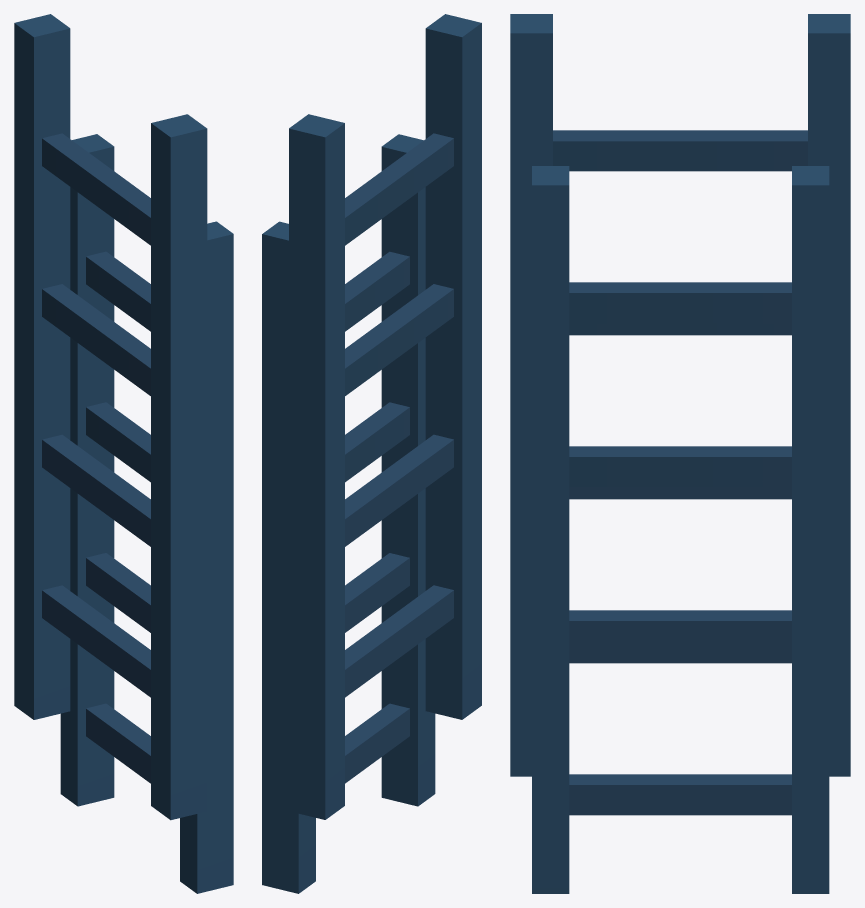
Rendered from FireEscape_D_4.fbx.
The picture shows the model from 3 angles, left to right: view 1: azimuth 30°, elevation 25°; view 2: azimuth 150°, elevation 25°; view 3: azimuth 270°, elevation 25°; orthographic projection. The views are drawn at different scales.
Visible parts, largest first — view 1: FireEscape_D_4; view 2: FireEscape_D_4; view 3: FireEscape_D_4.
Part boxes in pixels (x1,y1,x2,y2): FireEscape_D_4: [14, 14, 233, 893]; FireEscape_D_4: [262, 14, 481, 893]; FireEscape_D_4: [510, 14, 850, 893].
Size of the model in its own units: 18.51 by 187 by 68.63.
